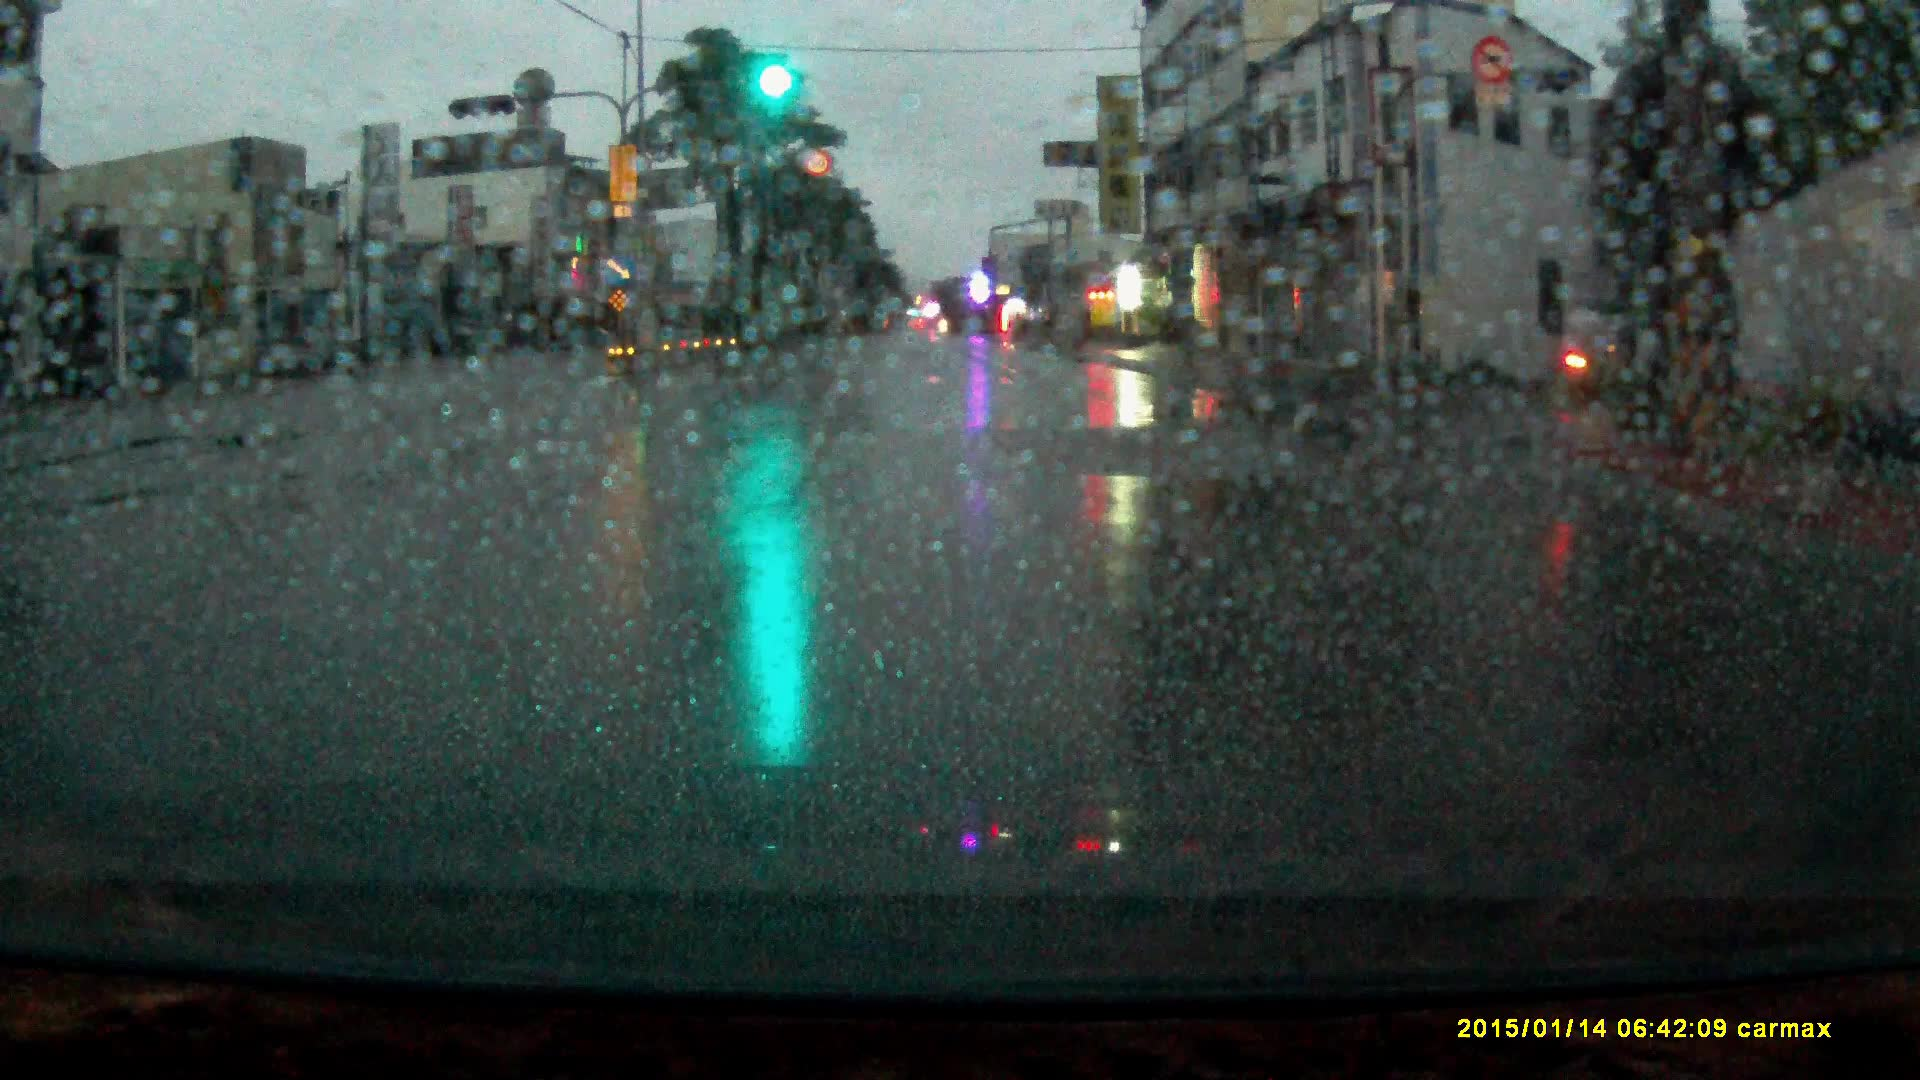rider: (1553, 288, 1625, 400)
